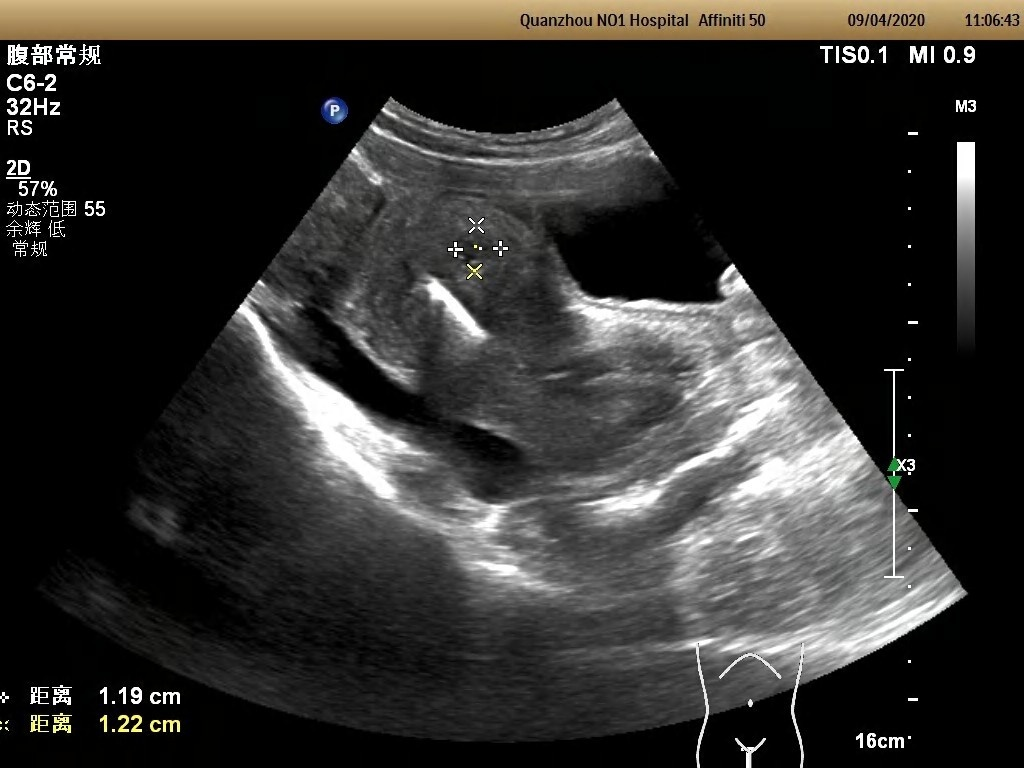肌瘤: (456, 226, 501, 272)
